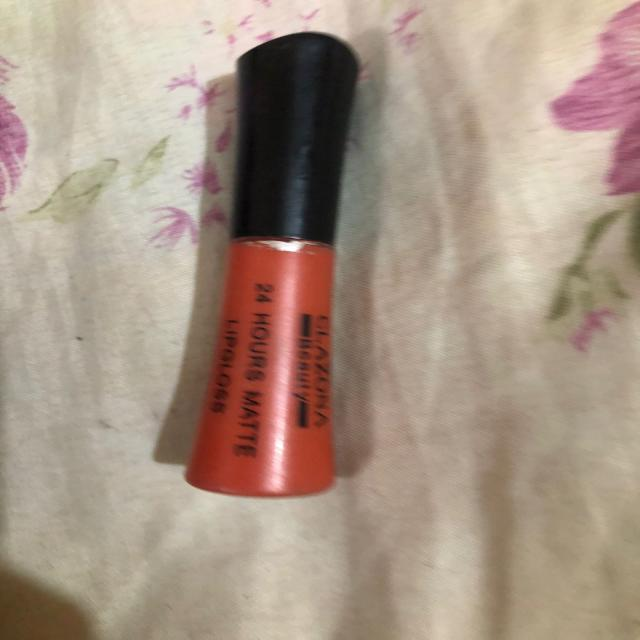lip gloss: (181, 39, 363, 519)
